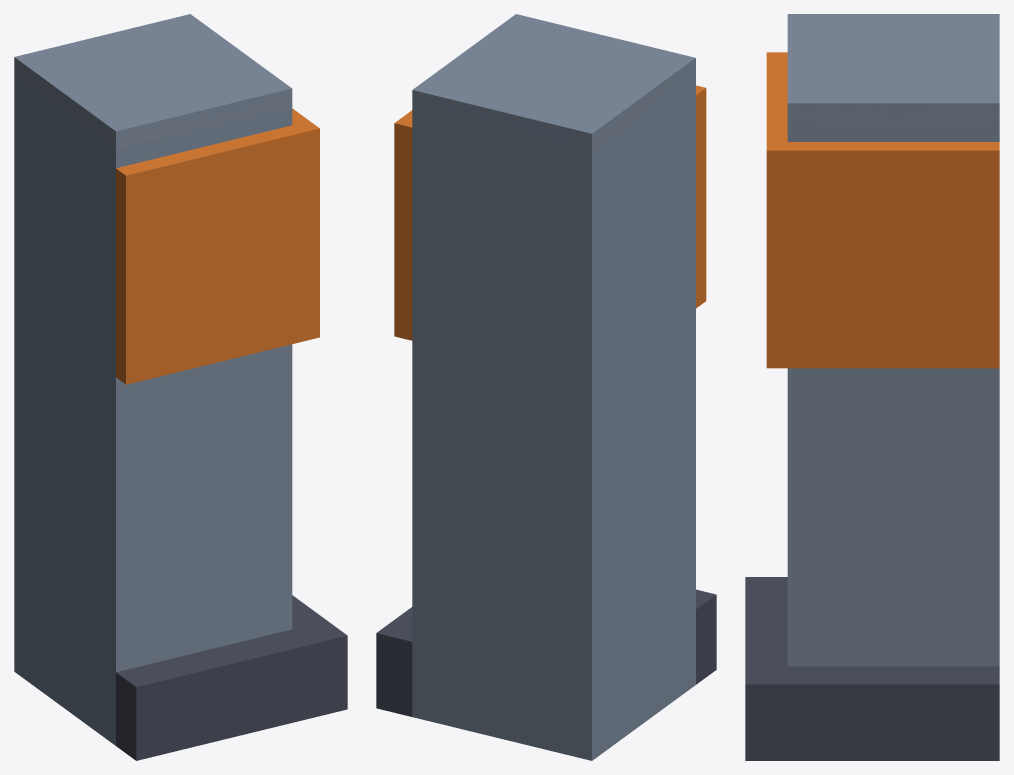
File: wall-corner.glb
3 views of the same model, side by side, from view 1: azimuth 30°, elevation 25°; view 2: azimuth 150°, elevation 25°; view 3: azimuth 270°, elevation 25° (orthographic). The views are drawn at different scales.
Parts seen in each view (by area): view 1: wall-corner; view 2: wall-corner; view 3: wall-corner.
Part boxes in pixels (x1,y1,x2,y2): wall-corner: (14,14,347,760); wall-corner: (376,14,716,760); wall-corner: (745,14,999,760).
Size of the model in its own units: 0.18 by 0.5 by 0.18.
Materials: 1 (1 with a texture image).
